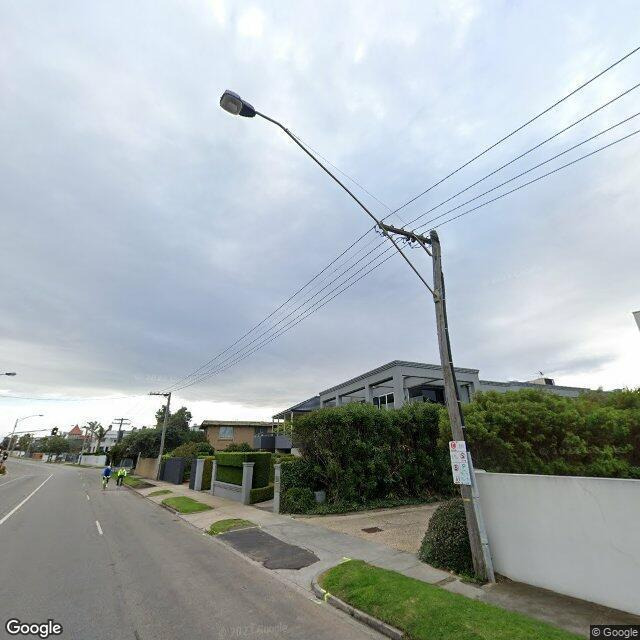crossarm: (372, 220, 433, 248), (148, 392, 170, 397), (112, 422, 132, 425), (114, 418, 129, 421)
steel-pole: (8, 418, 18, 450)
streetlight: (218, 89, 439, 300), (18, 414, 44, 422), (0, 371, 17, 376)
timber-pole: (432, 231, 496, 583), (156, 392, 171, 480), (119, 418, 124, 430)
